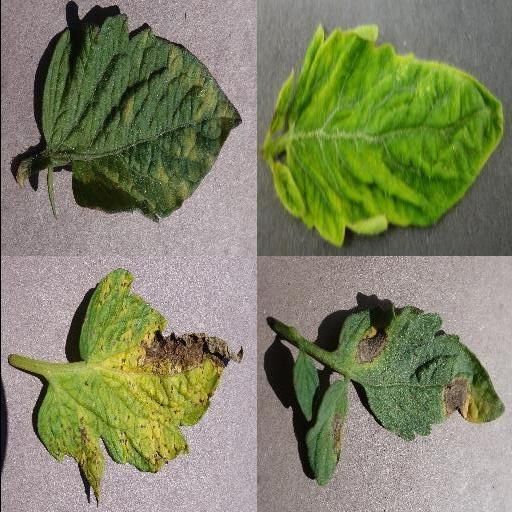Early Blight: (340, 300, 506, 440)
Leaf Mold: (41, 13, 241, 221)
Septoria: (34, 270, 244, 507)
Yellow Leaf Curl Virus: (258, 25, 504, 249)
